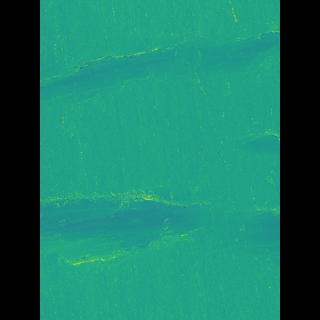Loch: (70, 0, 250, 111), (69, 185, 250, 288), (208, 128, 250, 161)
